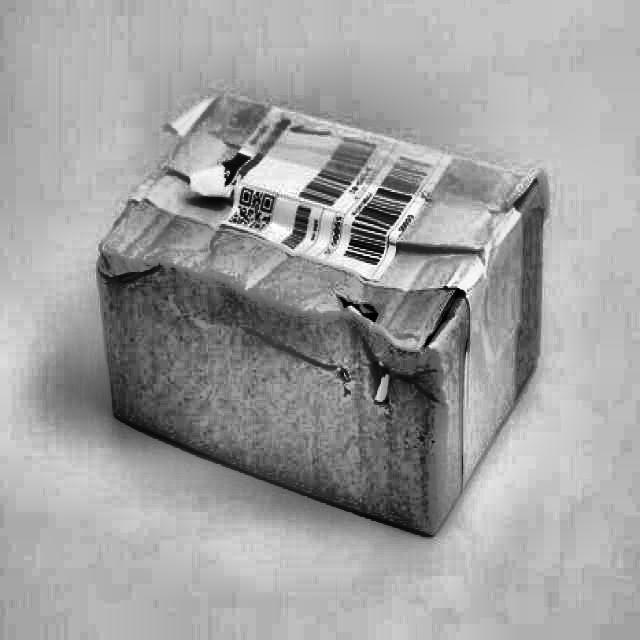box: (91, 87, 564, 548)
hole: (334, 291, 382, 341)
